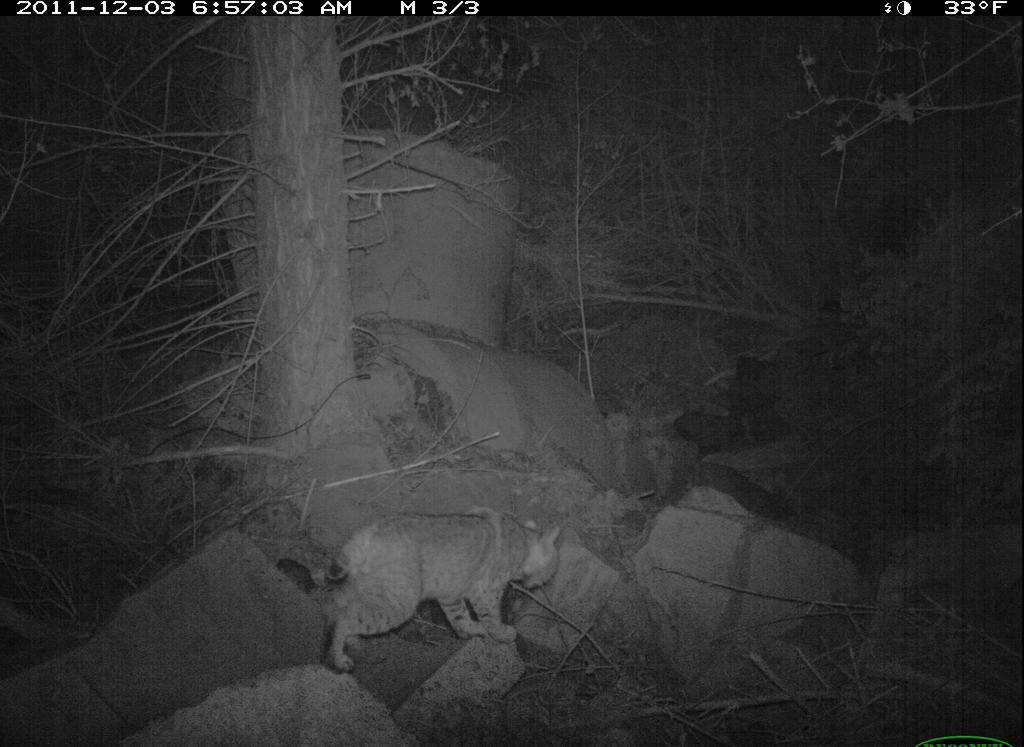bobcat: (295, 492, 606, 673)
